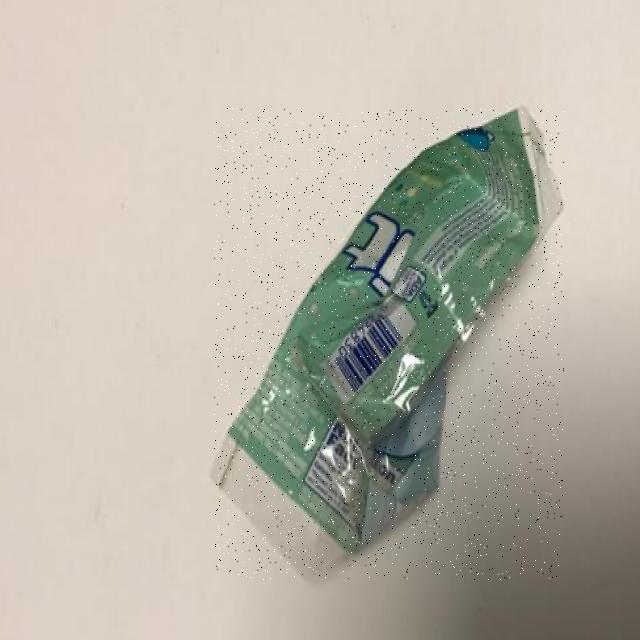wrapper: (215, 108, 564, 580)
